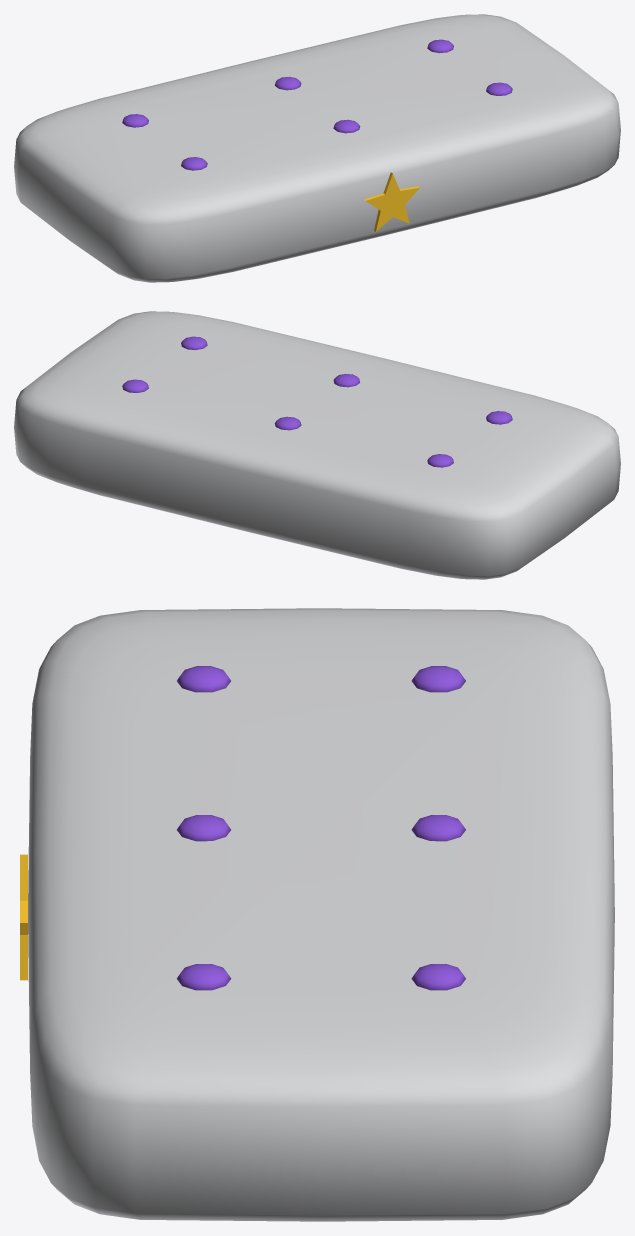
Rendered from mattress.glb.
3 renders of one model, top to bottom at view 1: azimuth 30°, elevation 25°; view 2: azimuth 150°, elevation 25°; view 3: azimuth 270°, elevation 25°, orthographic. The views are drawn at different scales.
Visible parts, largest first — view 1: Body; view 2: Body; view 3: Body.
Boxes of the visible parts, x1,y1,x2,y2 form: Body: (14,14,620,282); Body: (14,311,620,579); Body: (20,608,614,1221).
Bounding box in the file's own units: 3 × 0.51 × 1.52.
